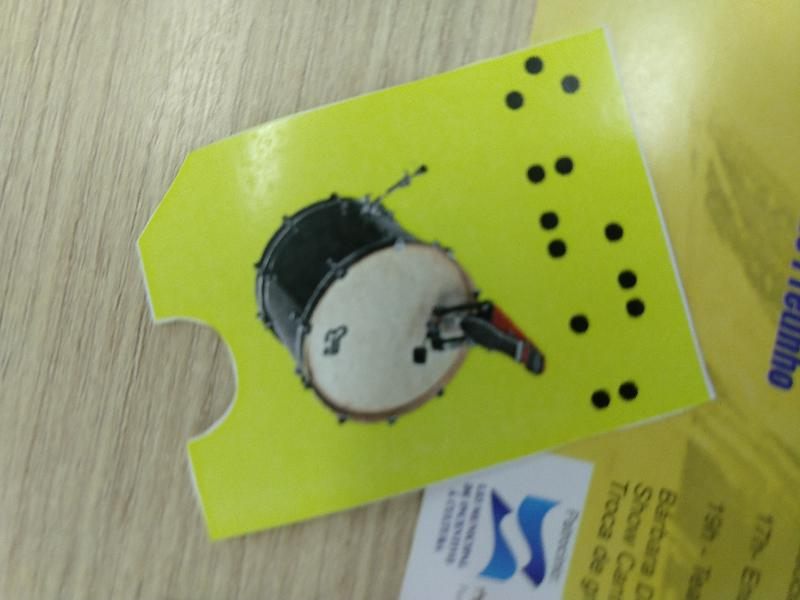bumbo: (130, 15, 715, 548)
